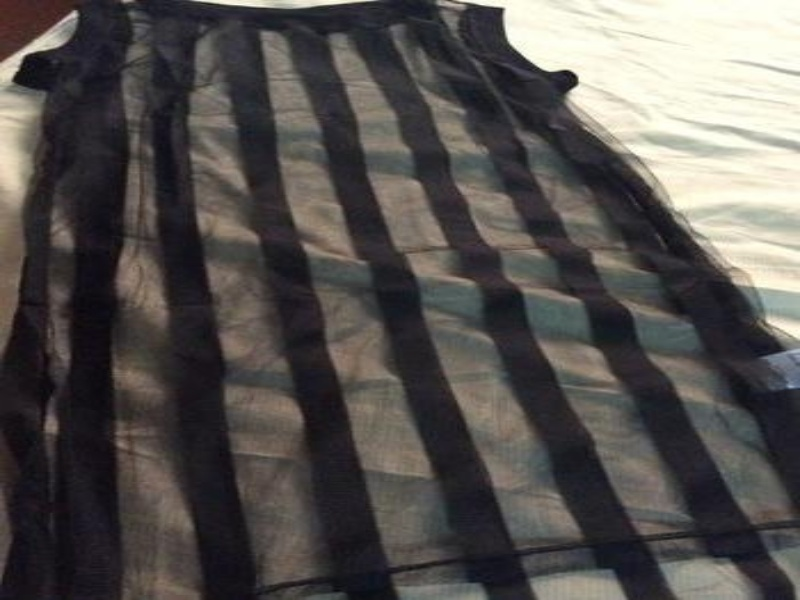vest_dress: (0, 0, 798, 599)
